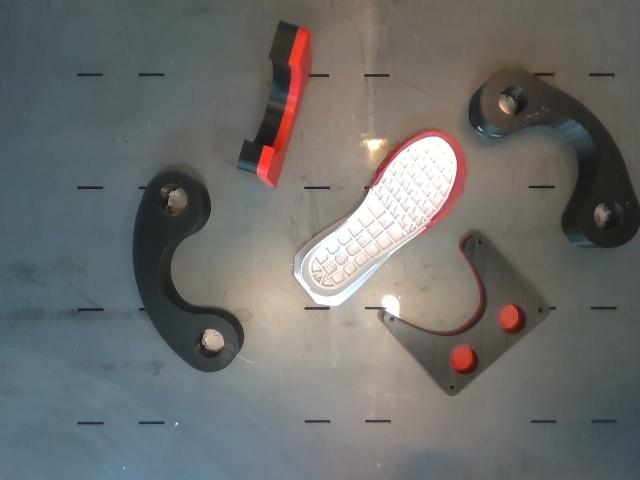shoes: (300, 131, 464, 297)
